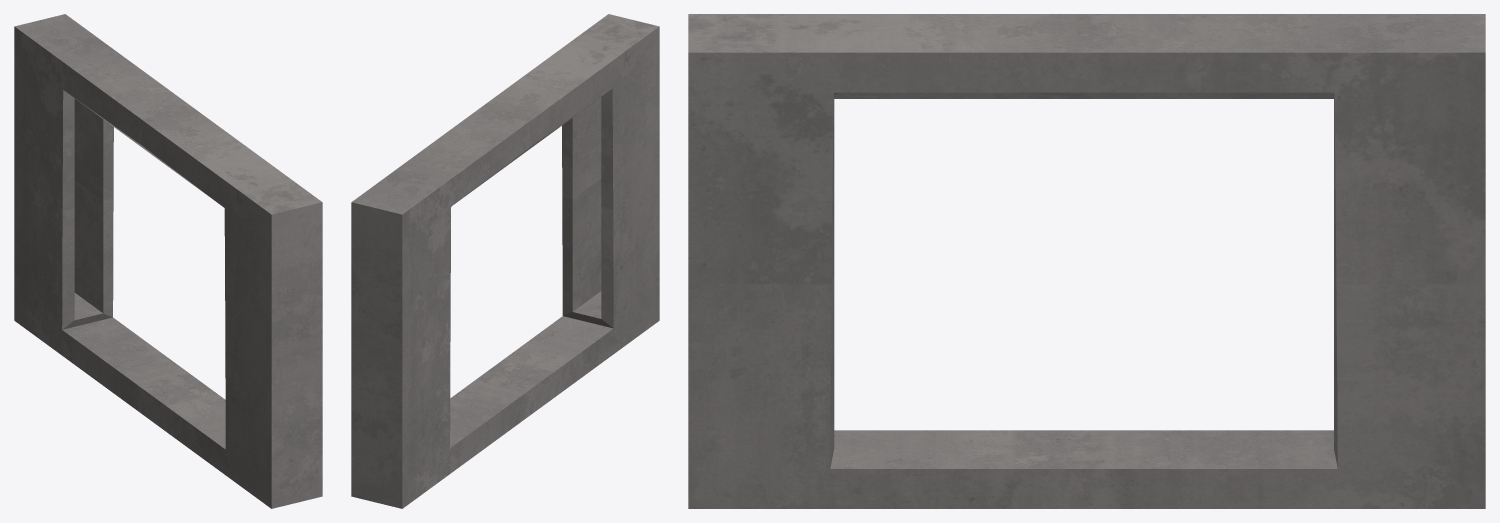
File: Back_DoorFrame.fbx
3 views of the same model, side by side, from view 1: azimuth 30°, elevation 25°; view 2: azimuth 150°, elevation 25°; view 3: azimuth 270°, elevation 25° (orthographic). The views are drawn at different scales.
Visible parts, largest first — view 1: MS_BackDoorFrame; view 2: MS_BackDoorFrame; view 3: MS_BackDoorFrame.
Boxes of the visible parts, x1,y1,x2,y2 form: MS_BackDoorFrame: [14, 14, 322, 508]; MS_BackDoorFrame: [351, 14, 659, 508]; MS_BackDoorFrame: [688, 14, 1485, 508].
Size of the model in its own units: 18.1 by 99.89 by 158.
1 material, 1 textured.
